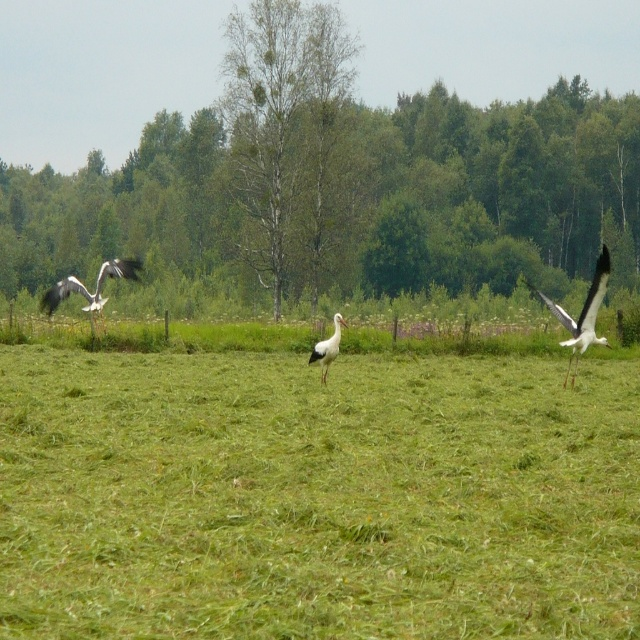Goose: (533, 245, 611, 390), (40, 259, 148, 343), (308, 311, 351, 387)
